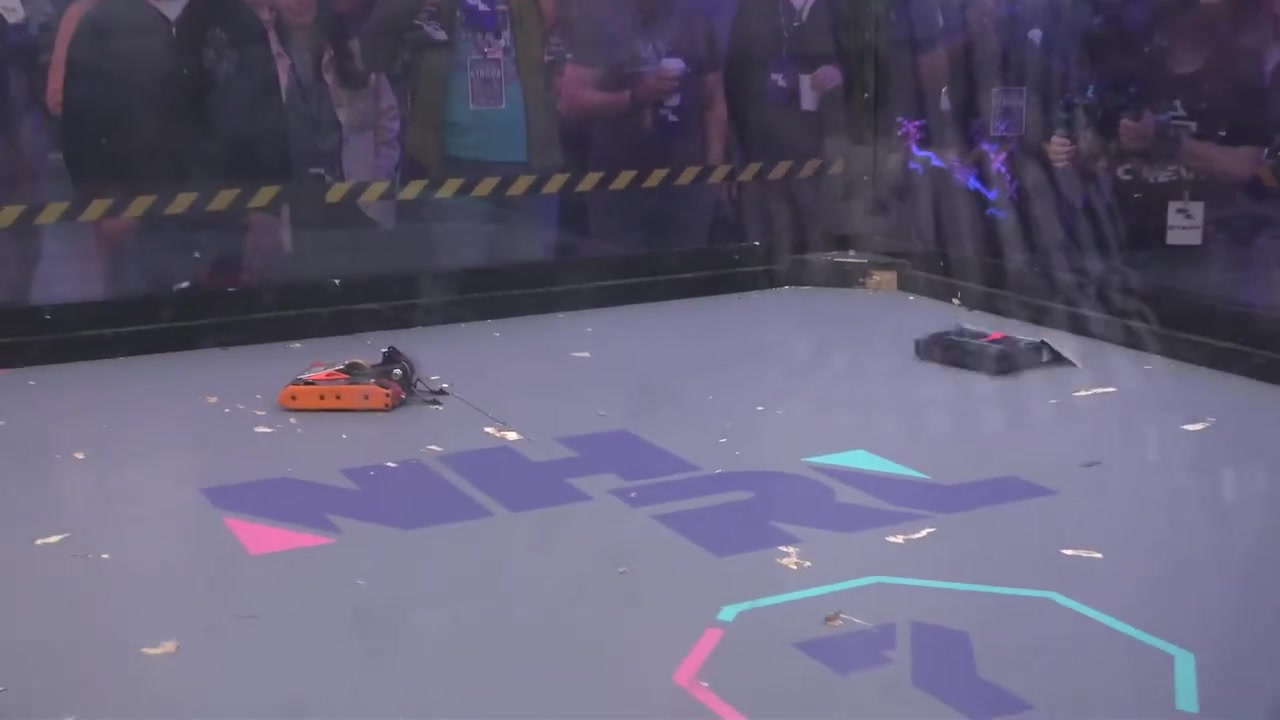combatbot: (281, 347, 449, 416), (912, 318, 1081, 381)
